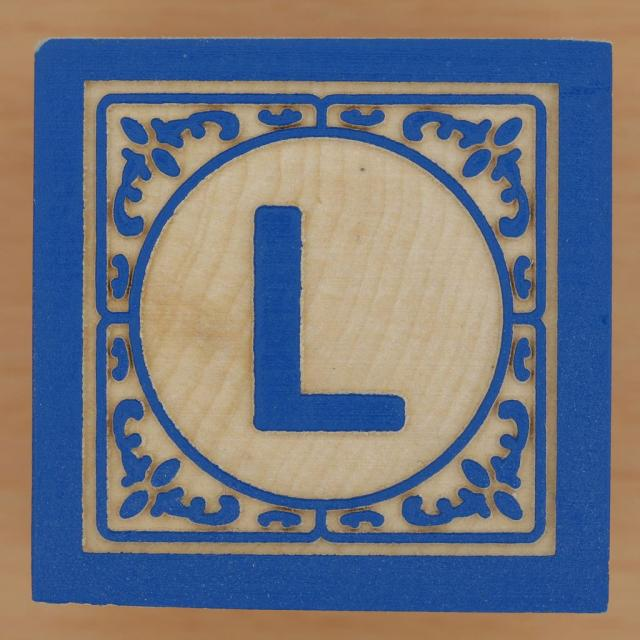L: (234, 182, 420, 461)
